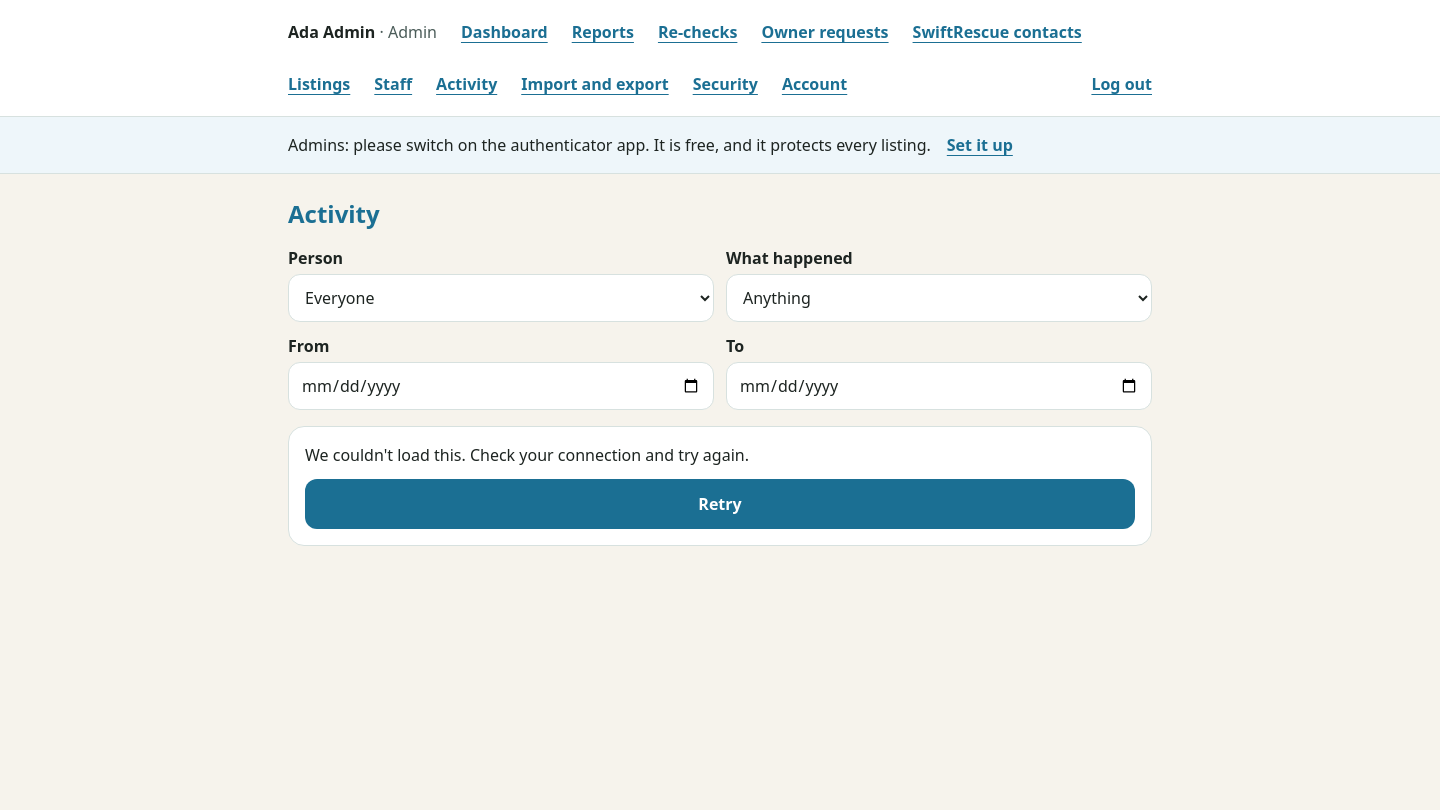
Test: the entries › shows the error with Retry when the log cannot be loaded
Expected: the text "We couldn't load this. Check your connection and try again." is shown, x1=305 y1=444 x2=749 y2=466
Click the button "Retry": (720, 504) x1=305 y1=479 x2=1135 y2=529
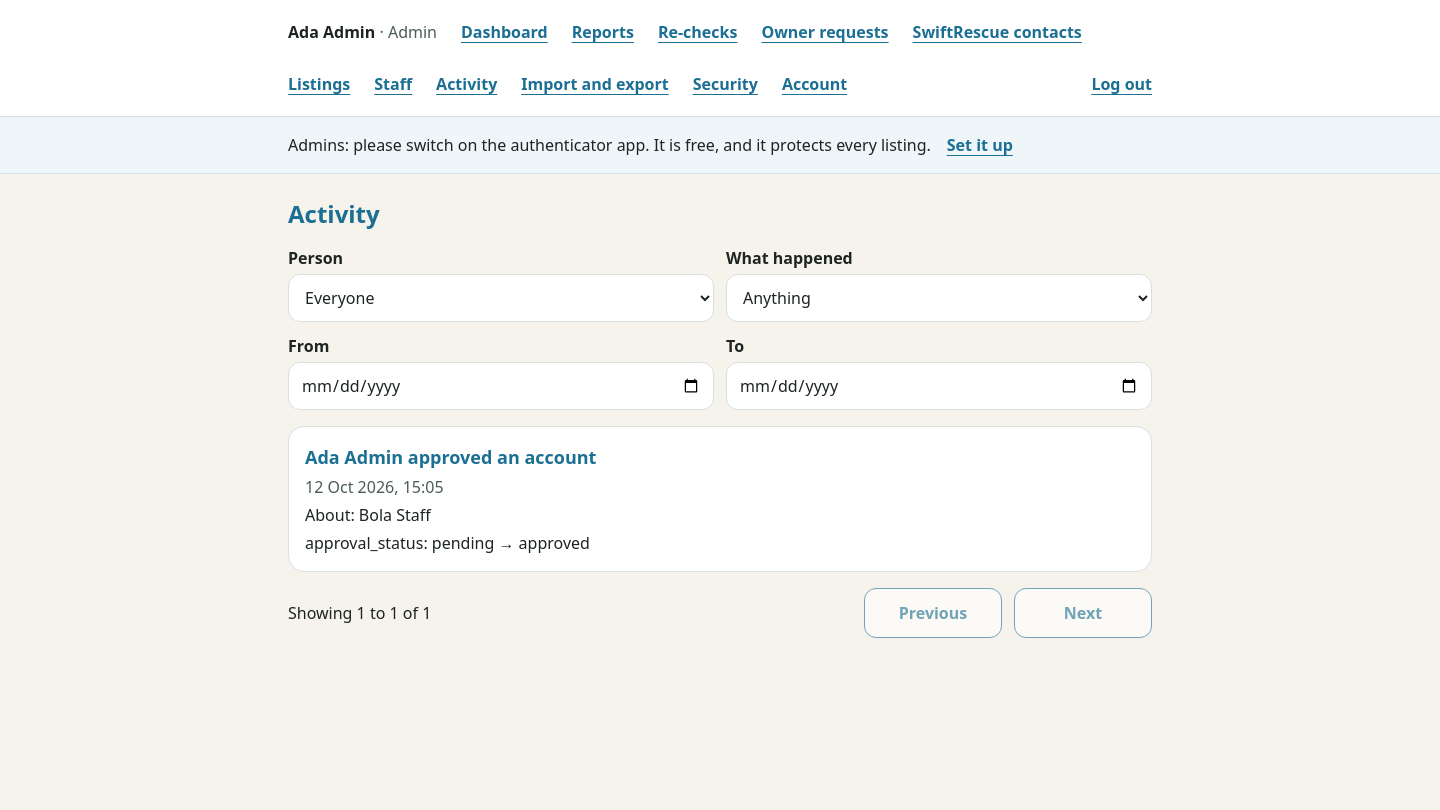
Now the number of list items is 1, box x1=288 y1=426 x2=1152 y2=572
